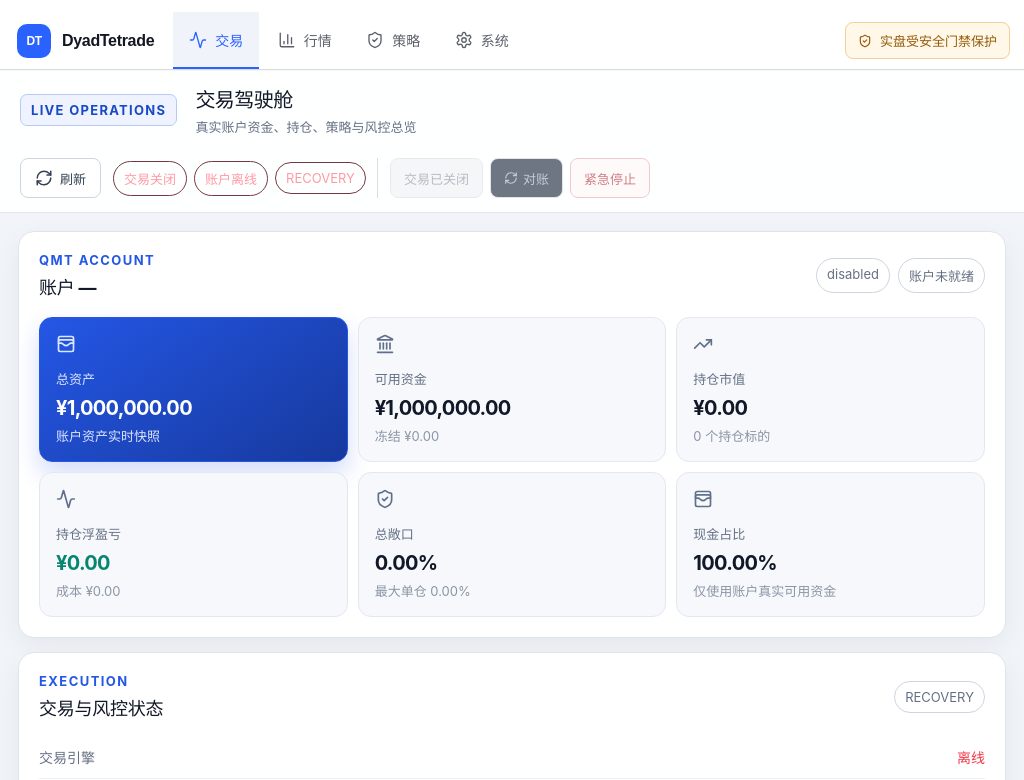
strategy page monitors multiple runtimes and keeps live orders blocked
Expected: the heading "交易驾驶舱" is shown, x1=195 y1=88 x2=293 y2=112
Click the button "策略" at [393, 40], box x1=350 y1=12 x2=436 y2=69
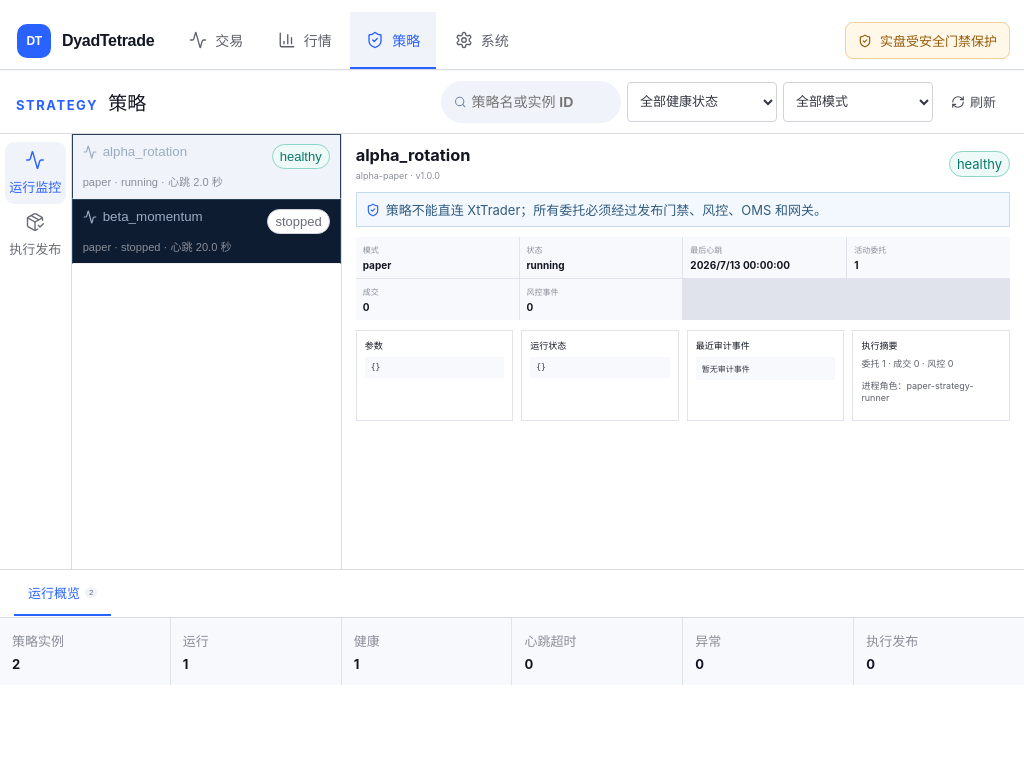
Now the element named "多策略运行监控" is shown, box x1=72 y1=134 x2=1023 y2=569
Now the text "alpha_rotation" is shown, box x1=83 y1=144 x2=187 y2=159
Now the text "beta_momentum" is shown, box x1=83 y1=209 x2=203 y2=224
